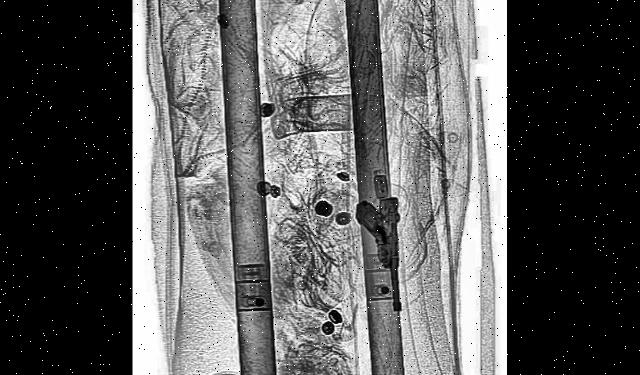Gun: (353, 190, 404, 322)
